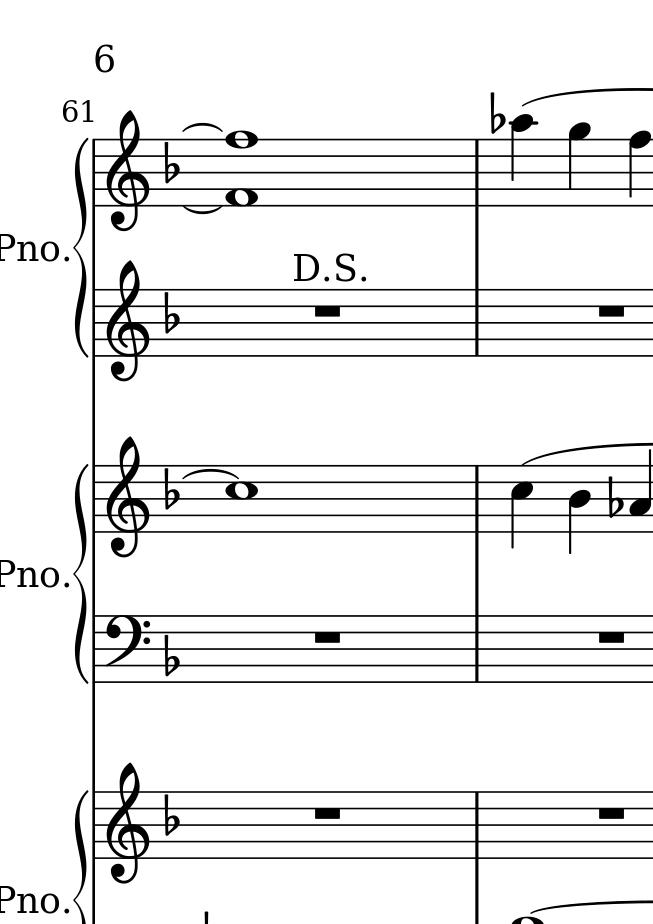1: (80, 99, 94, 125)
1_1_8: (225, 128, 258, 209)
1_5: (224, 463, 260, 534)
2_8: (623, 128, 651, 210)
2_9: (566, 122, 591, 208)
4_10: (509, 112, 537, 210)
4_3: (627, 447, 653, 536)
4_4: (565, 463, 592, 557)
4_5: (507, 463, 533, 551)
6: (94, 42, 114, 73), (62, 98, 78, 123)
Brace: (70, 137, 90, 356), (73, 460, 90, 687)
DS: (286, 248, 364, 284)
Fclef: (104, 611, 150, 671)
Flat: (160, 631, 185, 678), (162, 138, 183, 186), (487, 85, 507, 135), (160, 288, 182, 333), (160, 465, 181, 510), (606, 473, 625, 521), (162, 790, 180, 838)
Gclef: (102, 434, 155, 558), (103, 259, 155, 385), (104, 109, 153, 236), (104, 750, 148, 890)
Pno: (1, 558, 61, 589), (1, 884, 60, 914), (1, 233, 59, 261)
Rests1: (308, 625, 344, 649), (594, 626, 633, 647), (309, 803, 345, 825), (594, 802, 631, 823), (311, 298, 347, 319), (594, 299, 626, 319)
Single_barline: (467, 466, 487, 532), (468, 616, 485, 682), (469, 792, 485, 858), (469, 290, 485, 355), (469, 140, 485, 204), (88, 789, 102, 861), (88, 464, 102, 534), (88, 138, 101, 208), (88, 288, 101, 356), (88, 615, 101, 682)
Slur: (183, 469, 236, 481), (182, 121, 222, 134), (182, 204, 223, 215)
